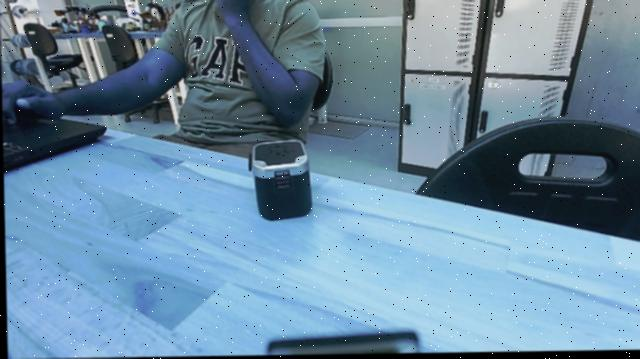adapter: (241, 136, 319, 227)
